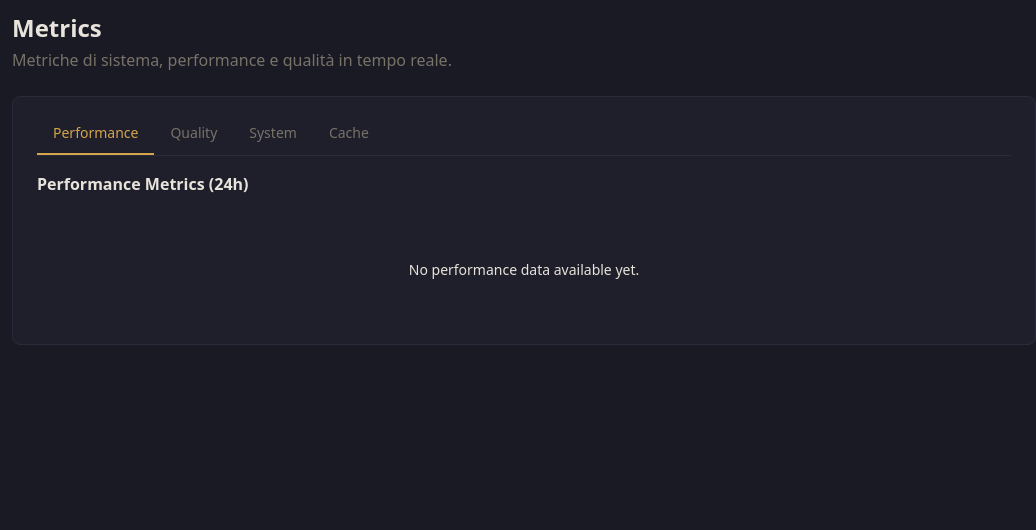
Test: Metrics Page - con dati reali › mostra agent distribution nel tab System
Note: Click sul tab System
Click the tab "System". click: (273,134)
box: [233,113,313,155]
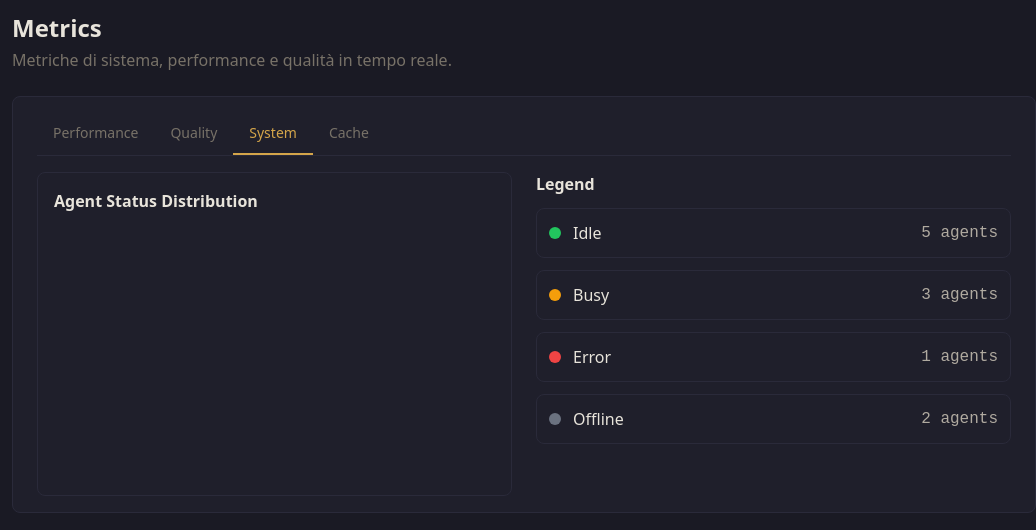
Check: the heading "Agent Status Distribution" is shown, box [54,190,258,212]
Check: the text "idle" is shown, box [573,222,601,244]
Check: the text "5 agents" is shown, box [921,221,998,245]
